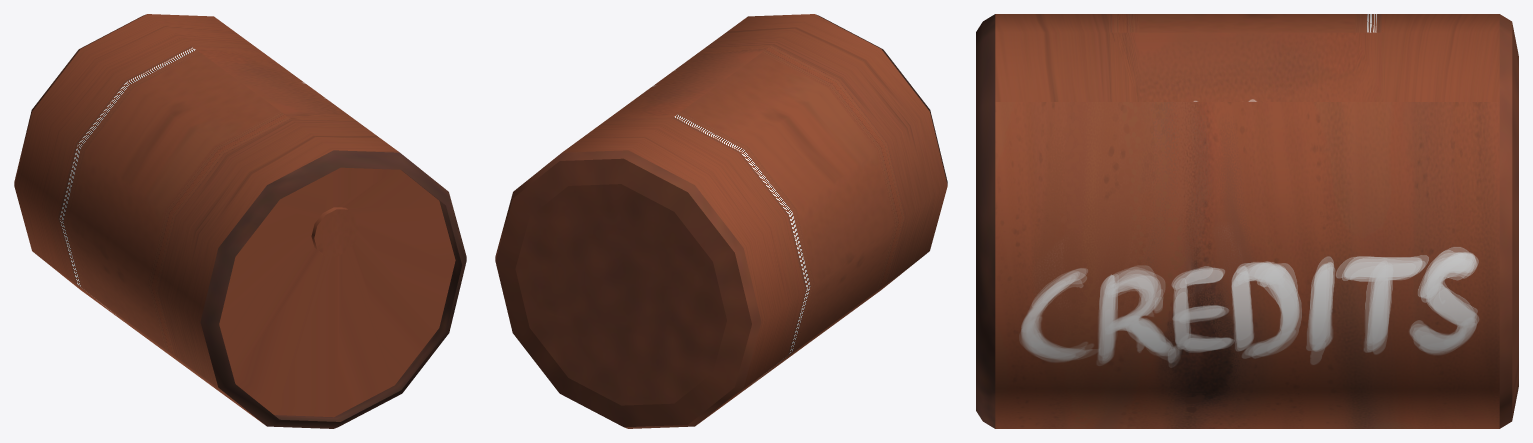
File: DM_BarrelSideways.fbx
The picture shows the model from 3 angles, left to right: view 1: azimuth 30°, elevation 25°; view 2: azimuth 150°, elevation 25°; view 3: azimuth 270°, elevation 25°; orthographic projection. The views are drawn at different scales.
Parts seen in each view (by area): view 1: pCylinder1; view 2: pCylinder1; view 3: pCylinder1.
Part boxes in pixels (<box>): pCylinder1: <box>14,14,466,428</box>; pCylinder1: <box>495,14,947,428</box>; pCylinder1: <box>976,14,1518,428</box>.
Bounding box in the file's own units: 2 × 2 × 2.61.
